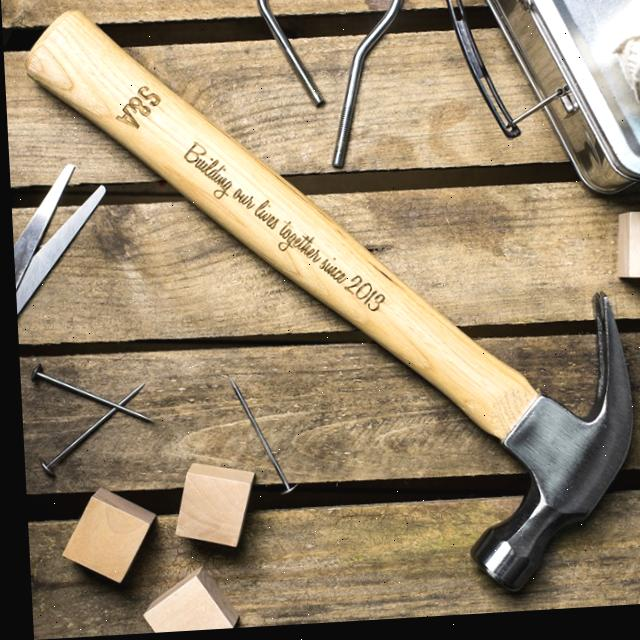hammer: (13, 0, 640, 639)
